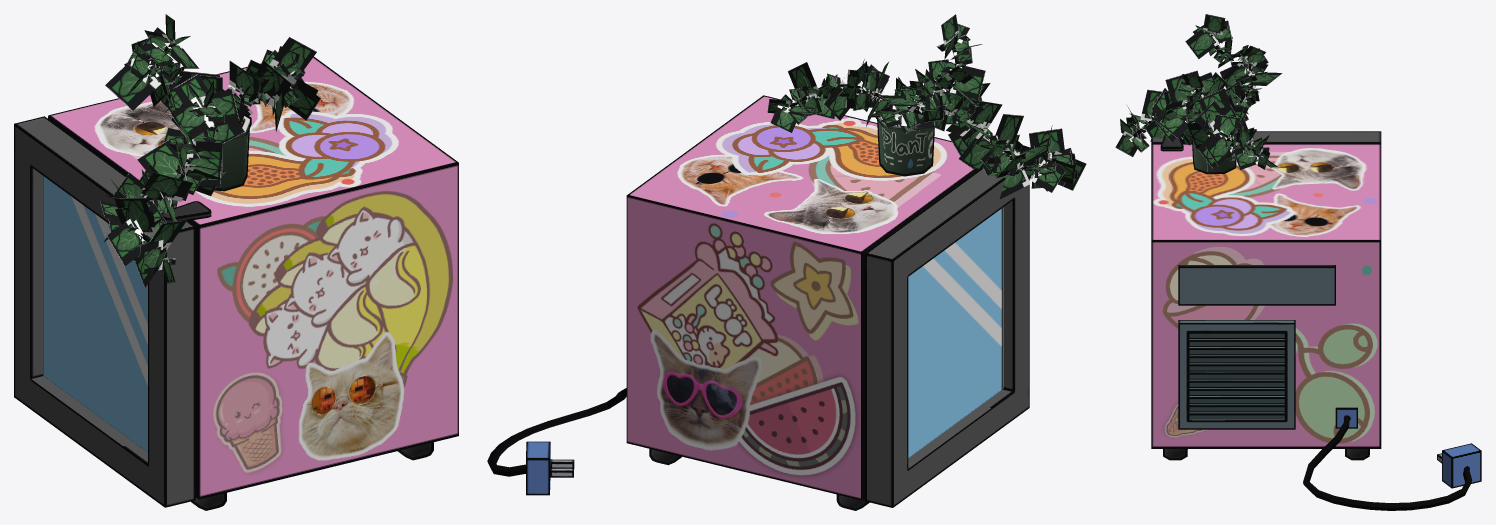
File: Mini_Fridge.fbx
3 views of the same model, side by side, from view 1: azimuth 30°, elevation 25°; view 2: azimuth 150°, elevation 25°; view 3: azimuth 270°, elevation 25° (orthographic). The views are drawn at different scales.
Visible parts, largest first — view 1: Body, Leafs, Window, Pot, Legs, Hinges; view 2: Body, Leafs, Window, Pot, Plug, Cord, Legs; view 3: Body, Leafs, Mechanics, Vent, Cord, Plug, Pot, Legs.
Boxes of the visible parts, x1,y1,x2,y2 form: Body: (14,56,458,507); Leafs: (100,14,320,287); Window: (43,176,147,452); Pot: (214,114,251,191); Legs: (191,442,433,510); Hinges: (161,201,211,222); Body: (626,95,1029,507); Leafs: (767,14,1086,199); Window: (908,207,1003,457); Pot: (875,106,934,176); Plug: (526,441,574,495); Cord: (487,388,626,476); Legs: (649,448,869,510); Body: (1151,131,1381,448); Leafs: (1115,14,1282,169); Mechanics: (1178,265,1357,429); Vent: (1188,332,1285,419); Cord: (1303,415,1472,510); Plug: (1437,443,1481,488); Pot: (1190,115,1236,174); Legs: (1163,449,1369,460).
Bounding box in the file's own units: 360 × 347 × 319.
